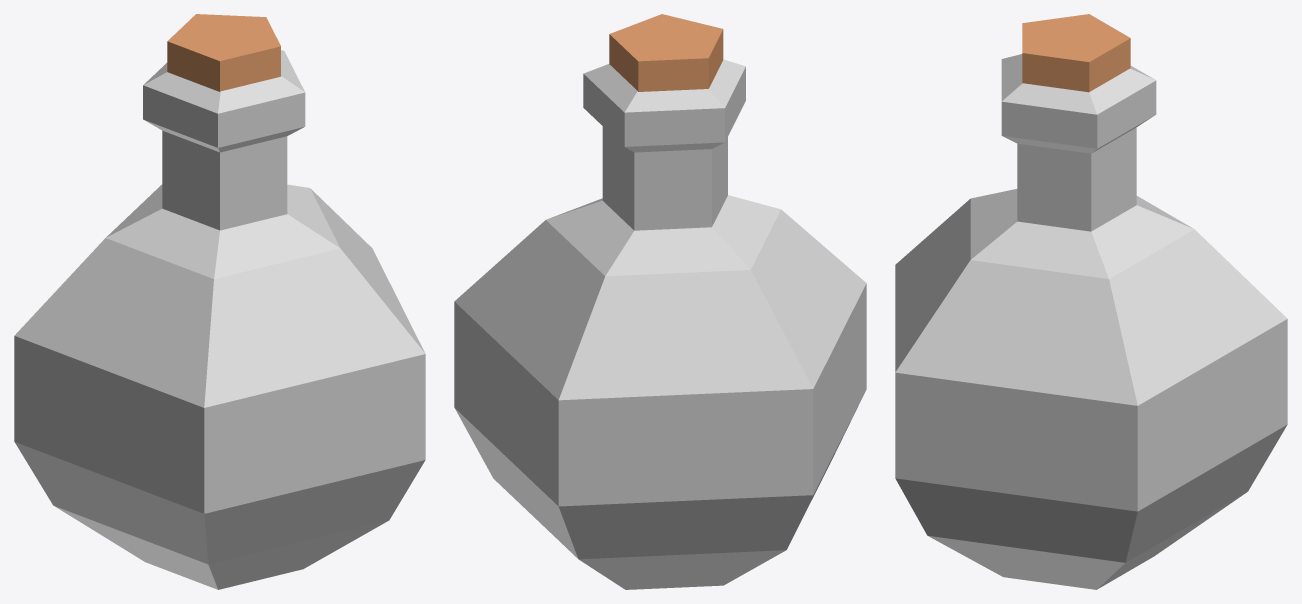
The model's file is potion.glb.
3 views of the same model, side by side, from view 1: azimuth 30°, elevation 25°; view 2: azimuth 150°, elevation 25°; view 3: azimuth 270°, elevation 25° (orthographic).
Visible parts, largest first — view 1: large_potion; view 2: large_potion; view 3: large_potion.
Boxes of the visible parts, box(x1,y1,x2,y2) form: large_potion: box(14, 14, 425, 589); large_potion: box(454, 14, 866, 589); large_potion: box(895, 14, 1287, 589).
Size of the model in its own units: 181 by 251 by 172.
